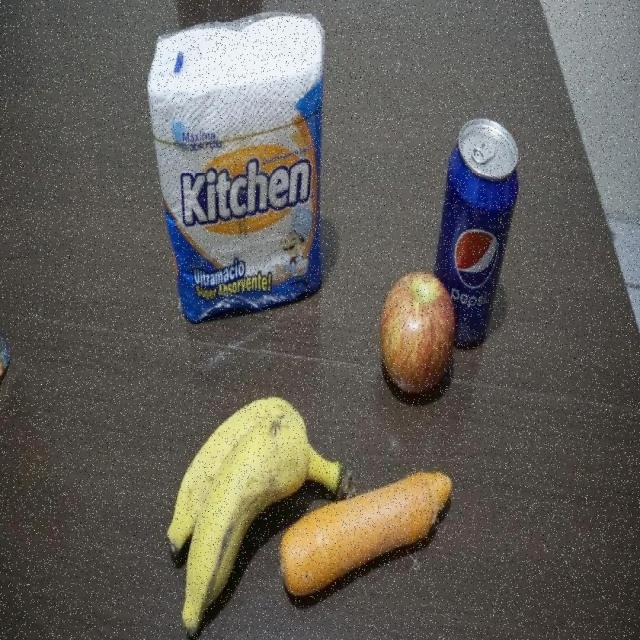Apple: (379, 268, 457, 396)
Banana: (167, 395, 353, 640)
Carrot: (276, 468, 455, 610)
Cracker: (0, 272, 12, 418)
Napkin: (146, 12, 329, 324)
SodaCan: (432, 117, 520, 348)
